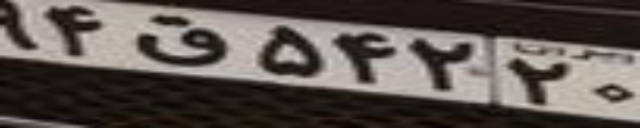0: (587, 81, 638, 103)
2: (407, 37, 473, 92), (504, 56, 570, 106)
4: (332, 31, 400, 83), (43, 5, 103, 56)
5: (254, 24, 326, 77)
9: (0, 0, 38, 51)
ghaf: (133, 14, 229, 67)
